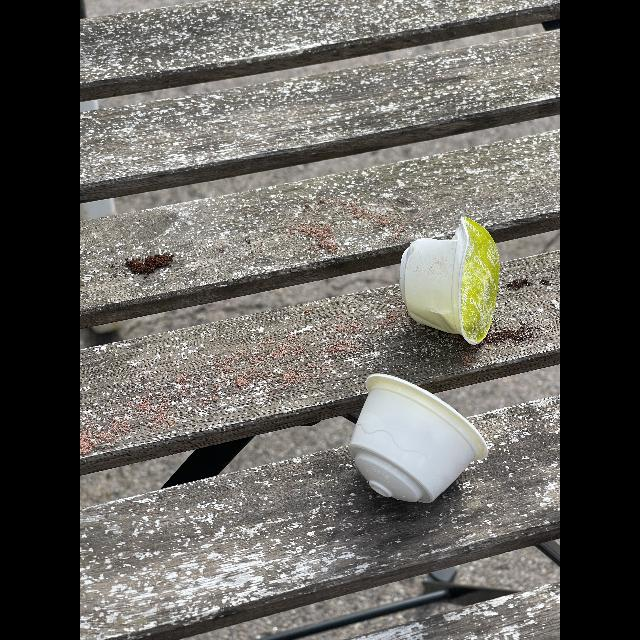damaged_capsule: (396, 209, 508, 357)
intact_capsule: (344, 367, 492, 515)
